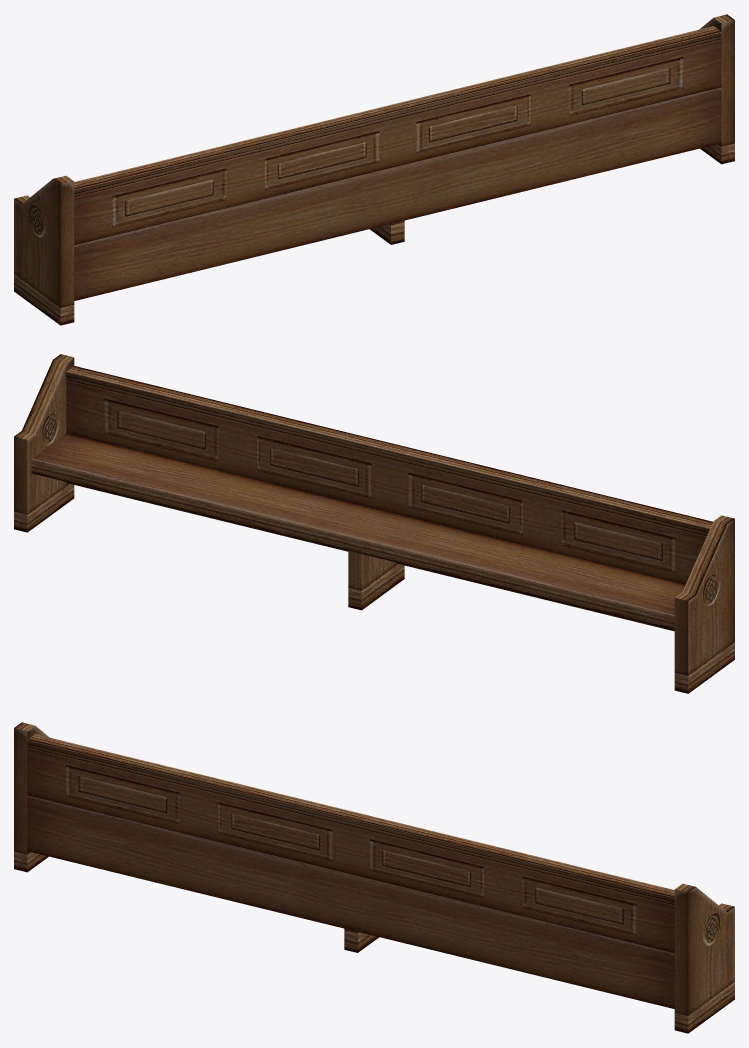
Rendered from pew_5m.fbx.
3 renders of one model, top to bottom at view 1: azimuth 30°, elevation 25°; view 2: azimuth 150°, elevation 25°; view 3: azimuth 330°, elevation 25°, orthographic.
Parts seen in each view (by area): view 1: mesh_0; view 2: mesh_0; view 3: mesh_0.
Part boxes in pixels (<box>): mesh_0: <box>14,14,734,325</box>; mesh_0: <box>14,354,734,693</box>; mesh_0: <box>14,722,734,1033</box>.
Bounding box in the file's own units: 500 × 100 × 60.
Materials: 1 (1 with a texture image).
